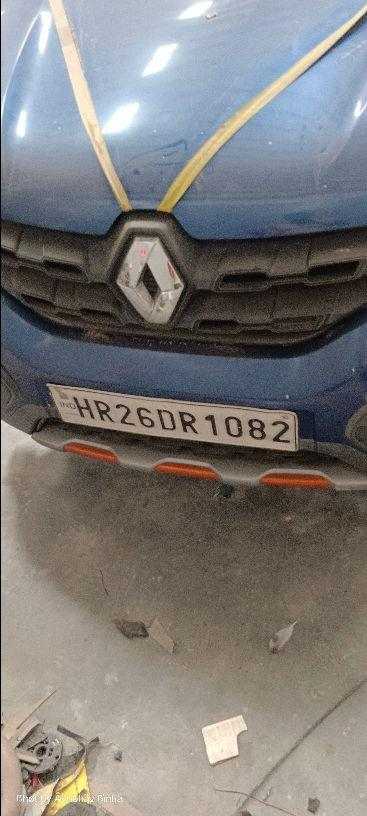license_plate: (45, 381, 300, 453)
